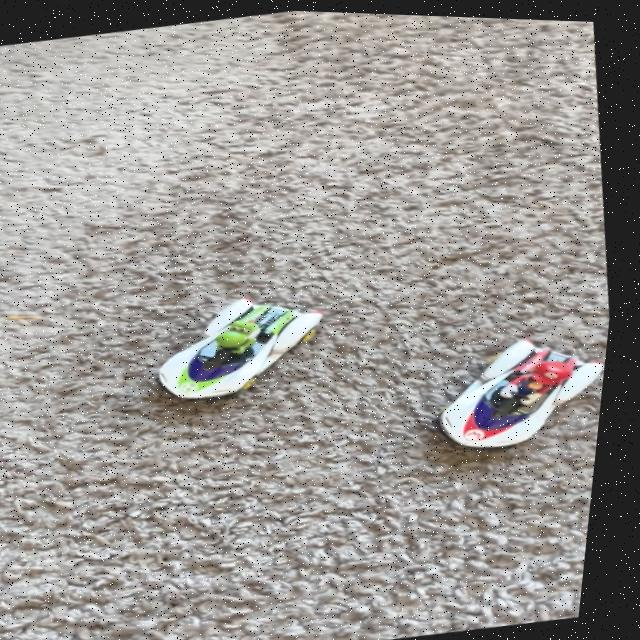mario: (415, 311, 616, 471)
yoshi: (140, 273, 357, 418)
